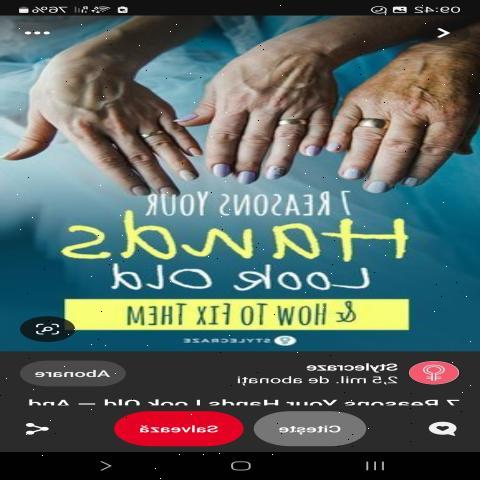Hands: (0, 41, 206, 230), (323, 46, 480, 229), (169, 45, 337, 207)
